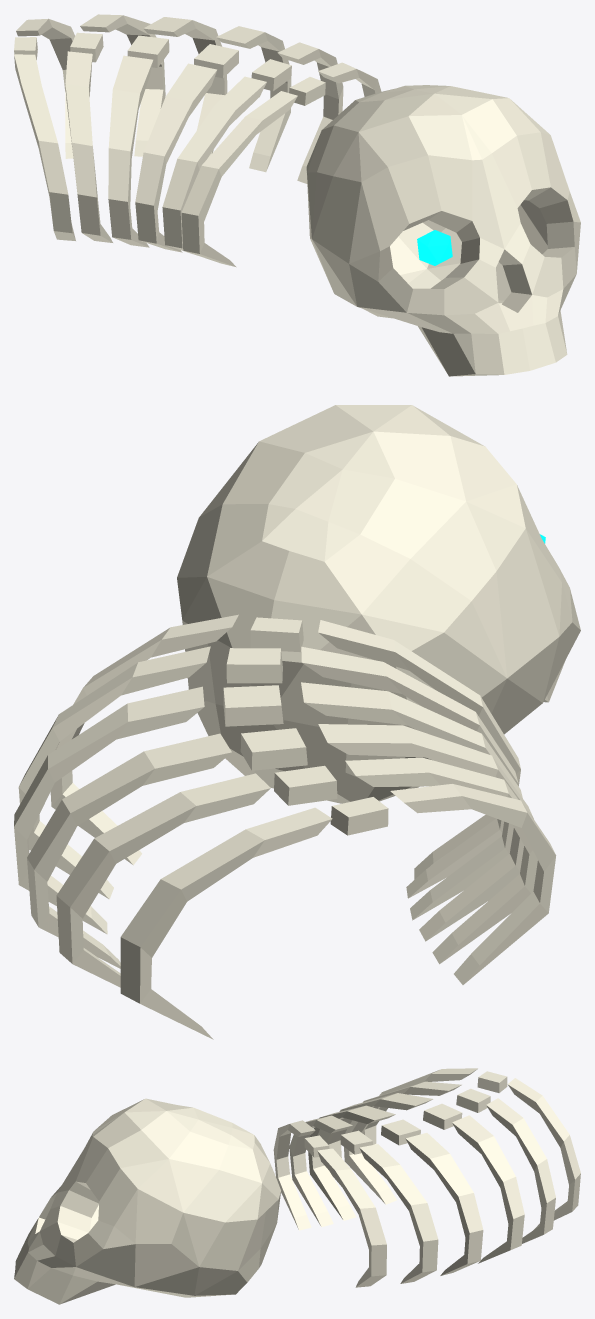
File: skelleton.fbx
3 views of the same model, one above another, from view 1: azimuth 30°, elevation 25°; view 2: azimuth 150°, elevation 25°; view 3: azimuth 270°, elevation 25° (orthographic). The views are drawn at different scales.
Visible parts, largest first — view 1: skull, ribcage, eye; view 2: ribcage, skull; view 3: skull, ribcage.
Part boxes in pixels (left/top/right/bottom): skull: left=306, top=85, right=580, bottom=376; ribcage: left=14, top=14, right=381, bottom=267; eye: left=417, top=230, right=452, bottom=265; ribcage: left=14, top=614, right=556, bottom=1039; skull: left=177, top=405, right=580, bottom=803; skull: left=14, top=1098, right=280, bottom=1304; ribcage: left=273, top=1068, right=580, bottom=1287.
Bounding box in the file's own units: 60.45 × 35.37 × 103.
